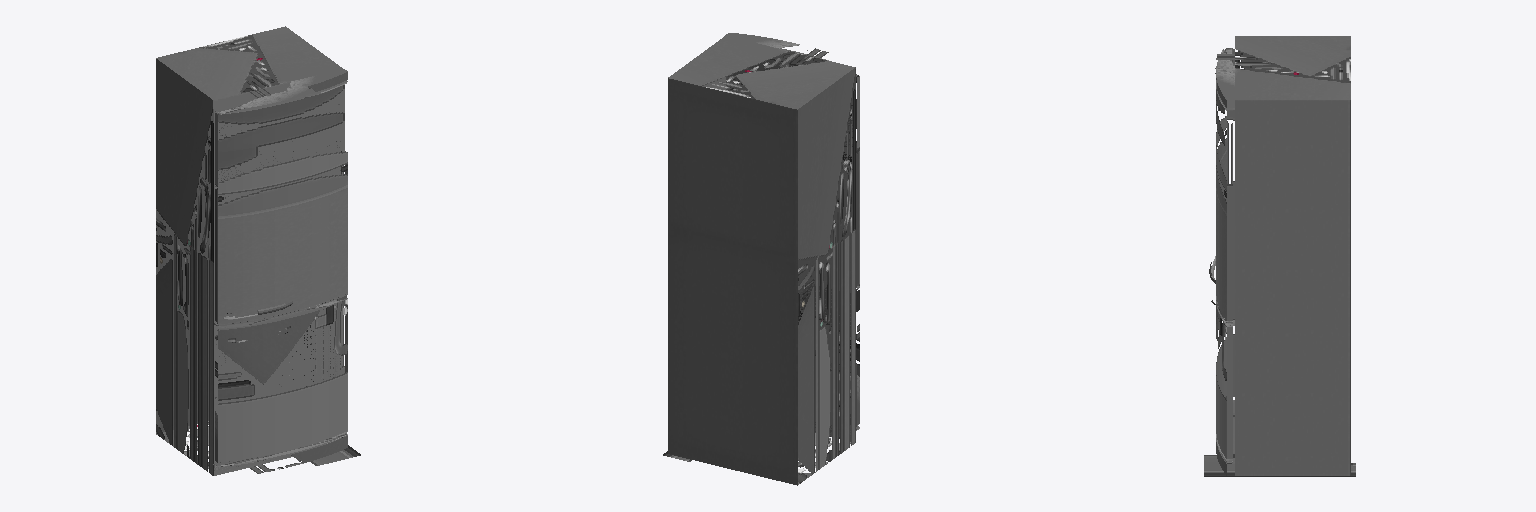
3 renders of one model, left to right at view 1: azimuth 30°, elevation 25°; view 2: azimuth 150°, elevation 25°; view 3: azimuth 270°, elevation 25°, orthographic.
Visible parts, largest first — view 1: solid_003, solid_002, solid_001; view 2: solid_002, solid_003; view 3: solid_003, shadow.
Part boxes in pixels (x1,y1,x2,y2): solid_003: (156,26,347,475); solid_002: (156,35,278,468); solid_001: (214,81,347,466); solid_002: (668,78,850,485); solid_003: (668,33,859,483); solid_003: (1216,36,1350,475); shadow: (1204,455,1355,476).
Size of the model in its own units: 0.7112 by 1.81 by 0.6667.
Materials: 1 (1 with a texture image).